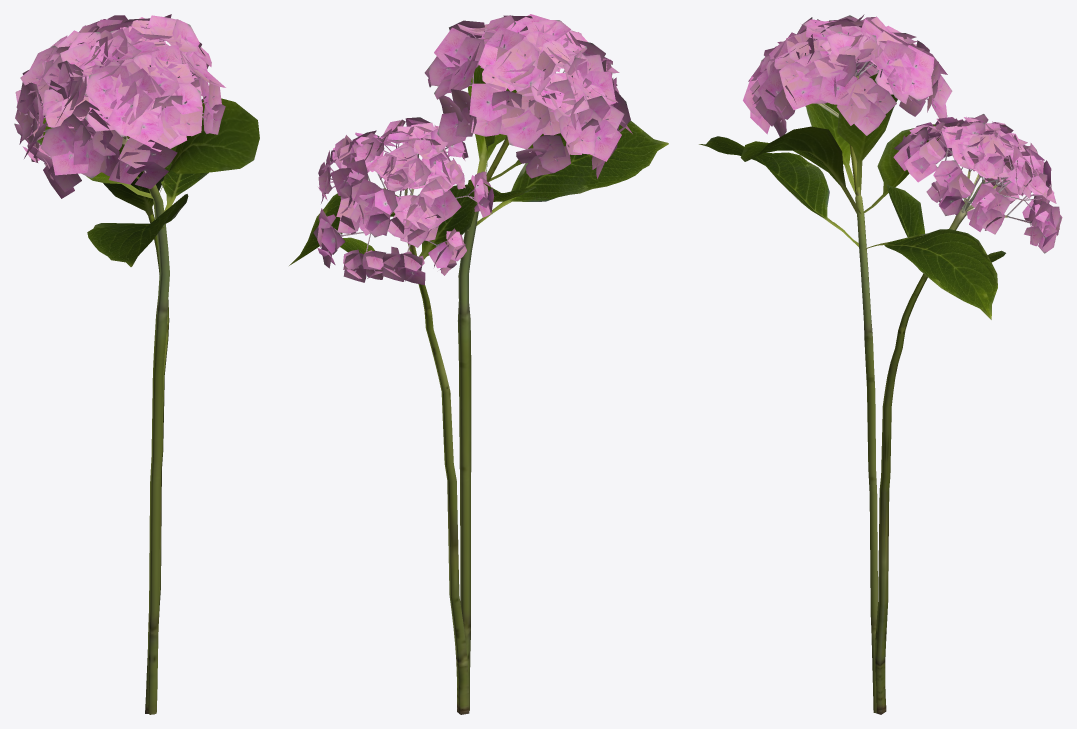
The model's file is Hydrangea_bush_normal_pink.glb.
3 renders of one model, left to right at view 1: azimuth 30°, elevation 25°; view 2: azimuth 150°, elevation 25°; view 3: azimuth 270°, elevation 25°, orthographic. The views are drawn at different scales.
Visible parts, largest first — view 1: BUSHEKK; view 2: BUSHEKK; view 3: BUSHEKK.
Boxes of the visible parts, box(x1,y1,x2,y2) form: BUSHEKK: box(14, 14, 259, 714); BUSHEKK: box(289, 14, 668, 714); BUSHEKK: box(699, 14, 1062, 714).
Bounding box in the file's own units: 1.48 × 3.79 × 1.87.
Materials: 1 (1 with a texture image).
